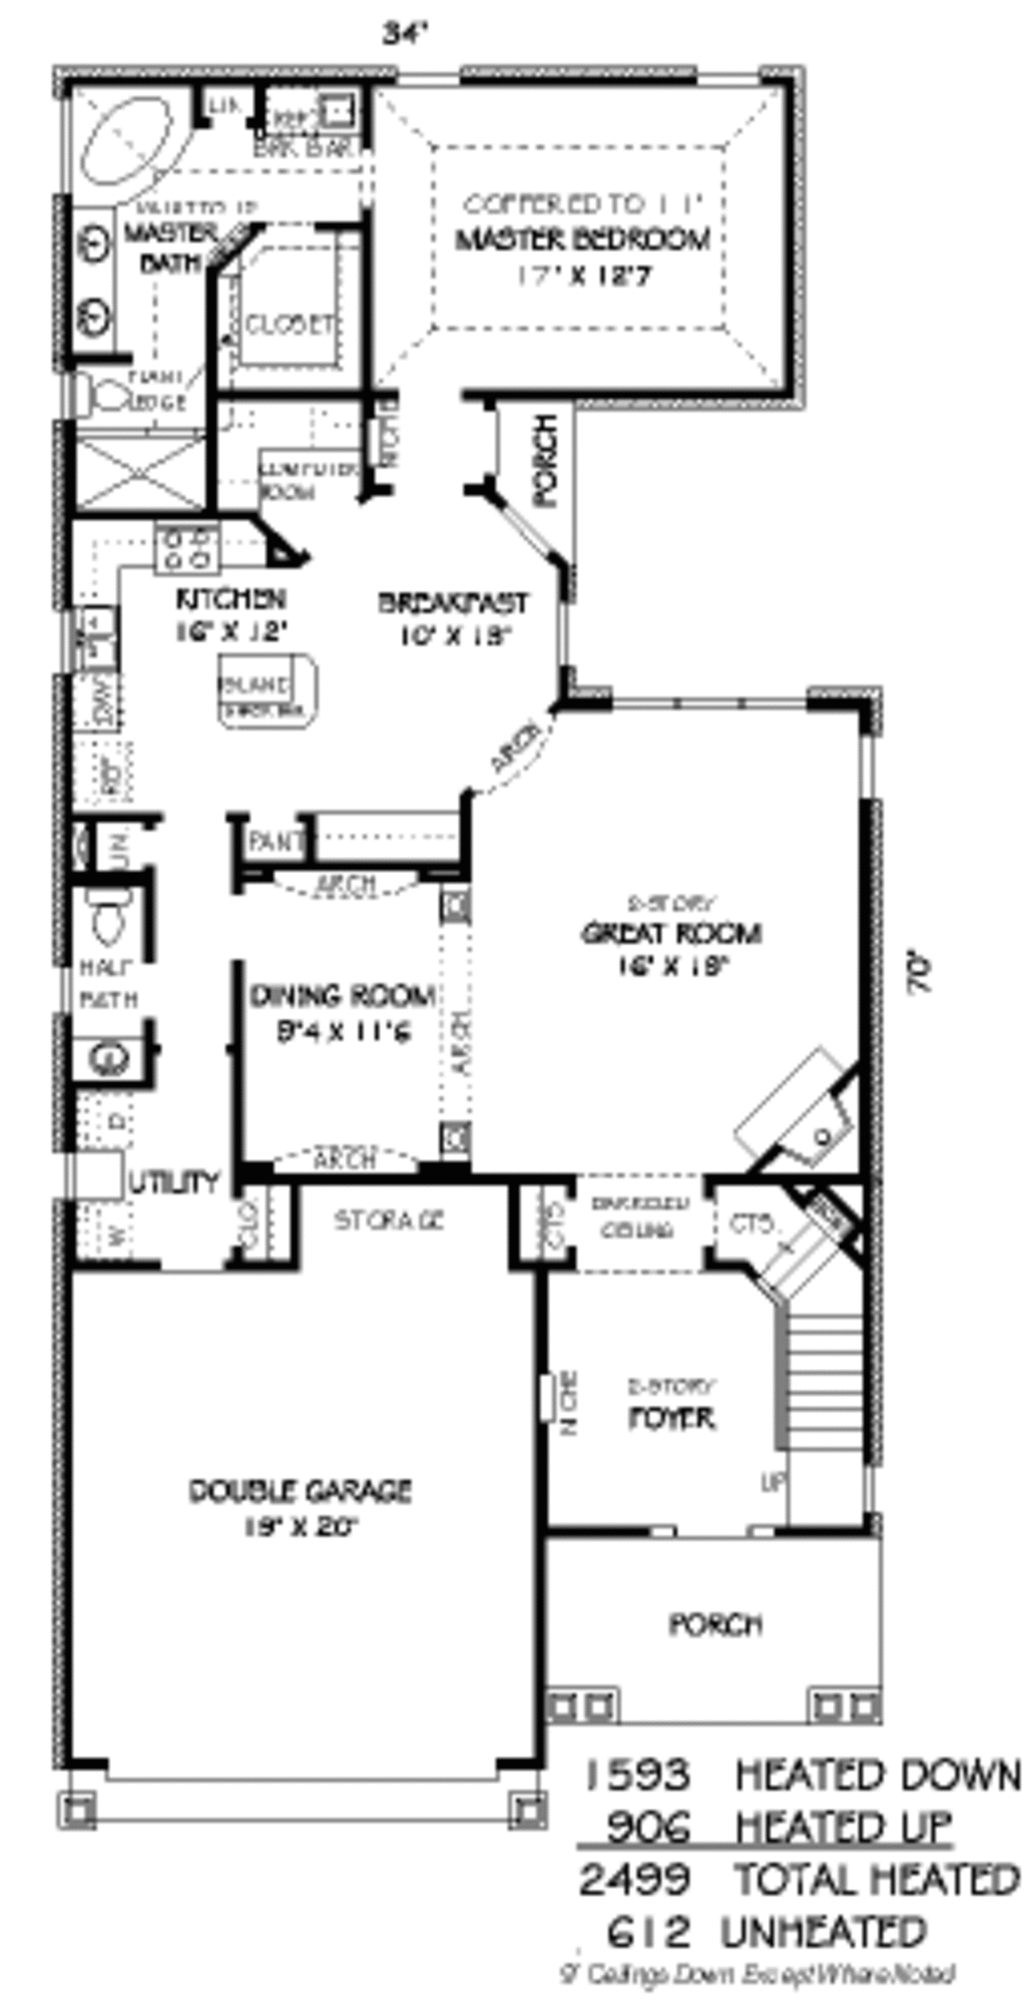kitchen_bar: (205, 646, 342, 749)
large_sink: (52, 349, 149, 433), (80, 890, 155, 968)
small_sink: (57, 218, 142, 349), (77, 1024, 165, 1099)
stairs: (714, 1189, 871, 1534)
twin_sink: (50, 590, 142, 699)
window: (692, 50, 780, 108), (380, 56, 492, 99)
